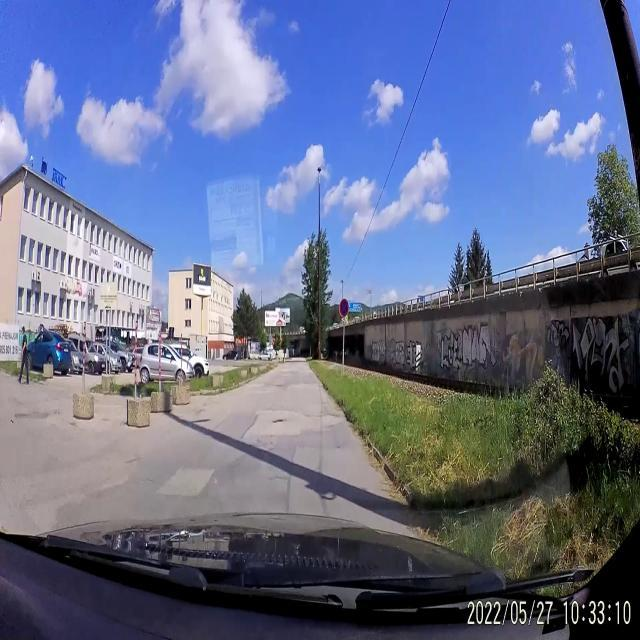Pothole: (272, 416, 286, 428)
